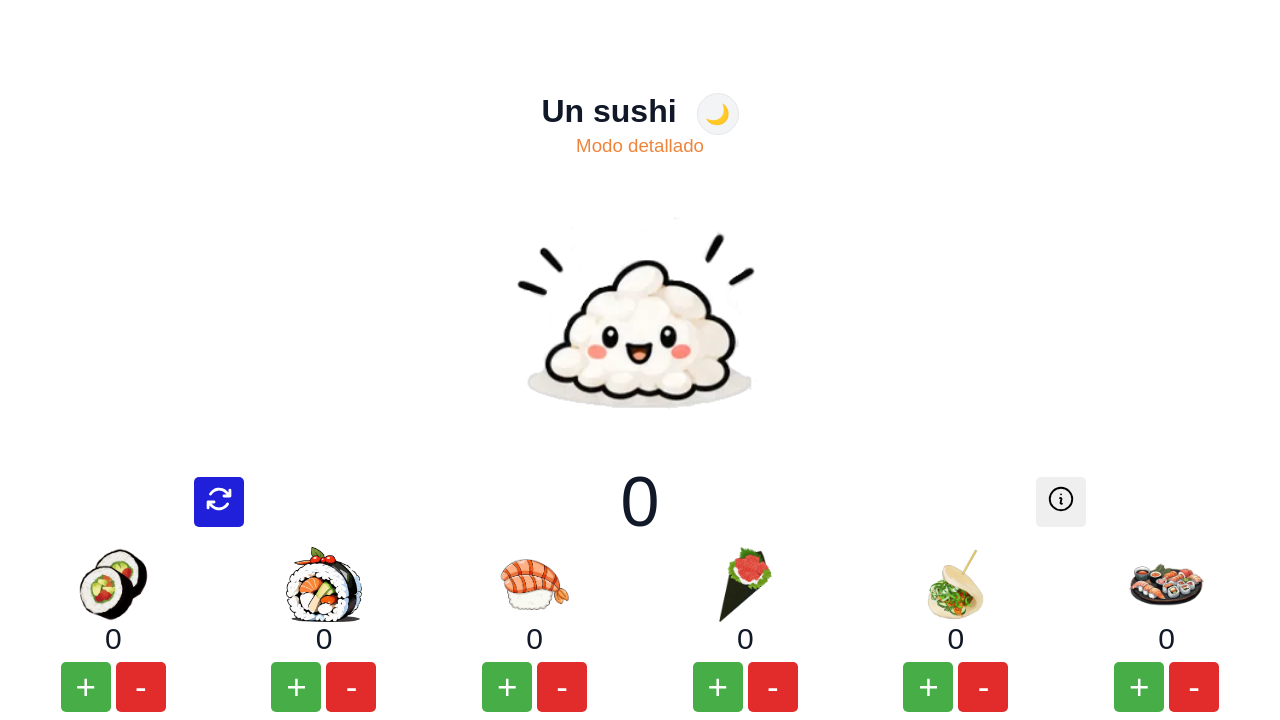
Test: SushiDetailedCounter › should aument counter and uramaki when we pulse add
(page scrolled)
Expected: the 3rd text "0" is shown, top-left (316, 622), bottom-right (332, 656)
Click the 2nd button "+". click: (296, 687)
box: top-left (272, 662), bottom-right (322, 712)
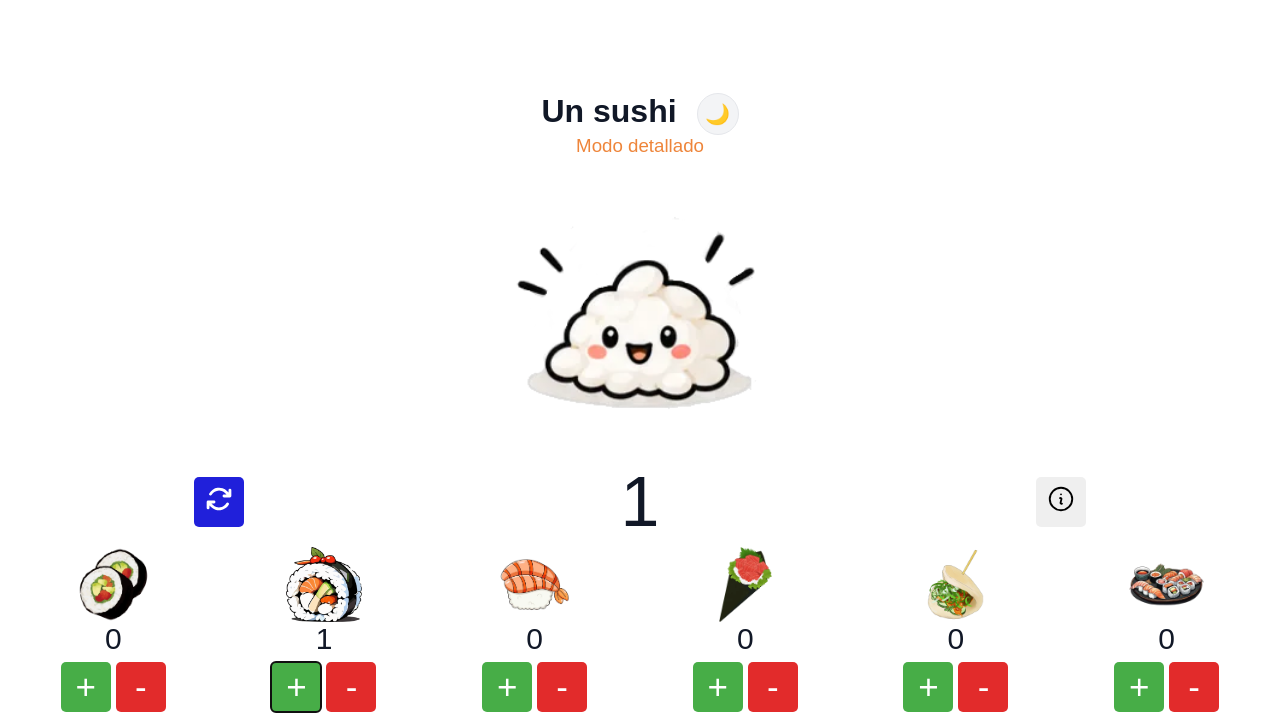
Expected: the text with id "detailed-counter" is shown, top-left (620, 462), bottom-right (659, 542)
Expected: the text with id "detailed-counter" reads "1", top-left (620, 463), bottom-right (659, 541)
Click the 2nd button "+". click: (296, 687)
box: top-left (272, 662), bottom-right (322, 712)
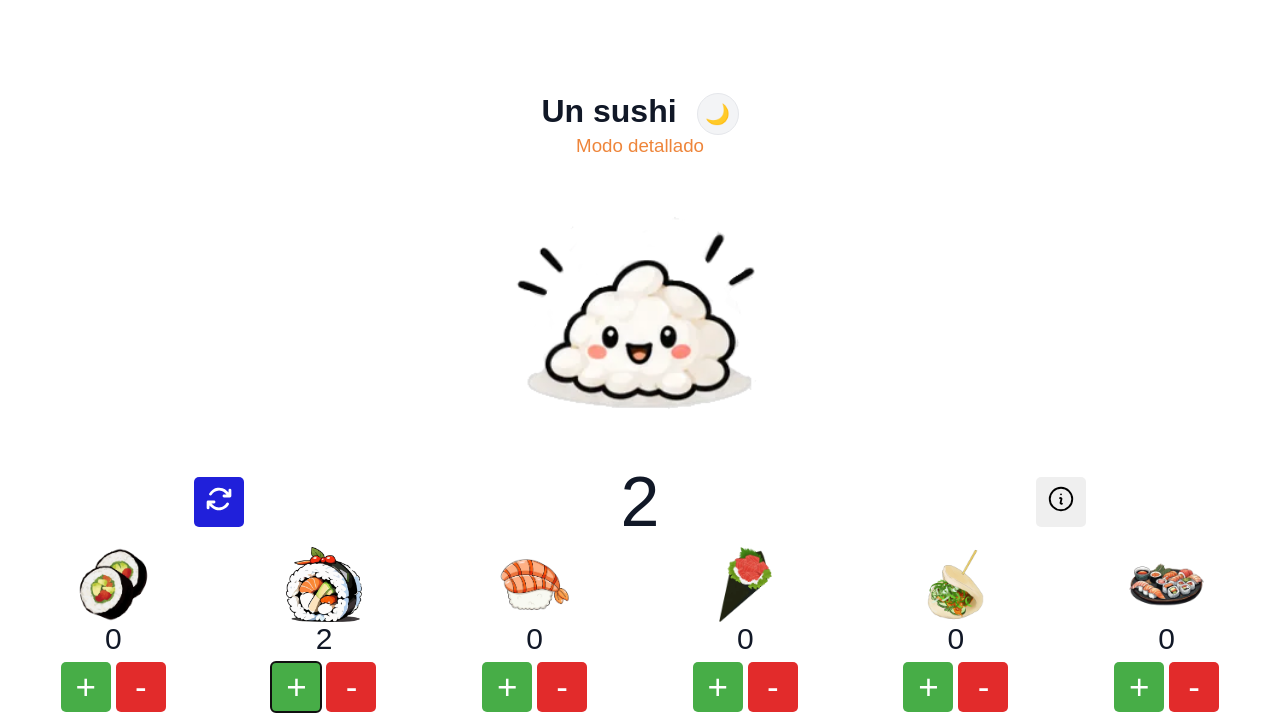
Click the 2nd button "+". click: (296, 687)
box: top-left (272, 662), bottom-right (322, 712)
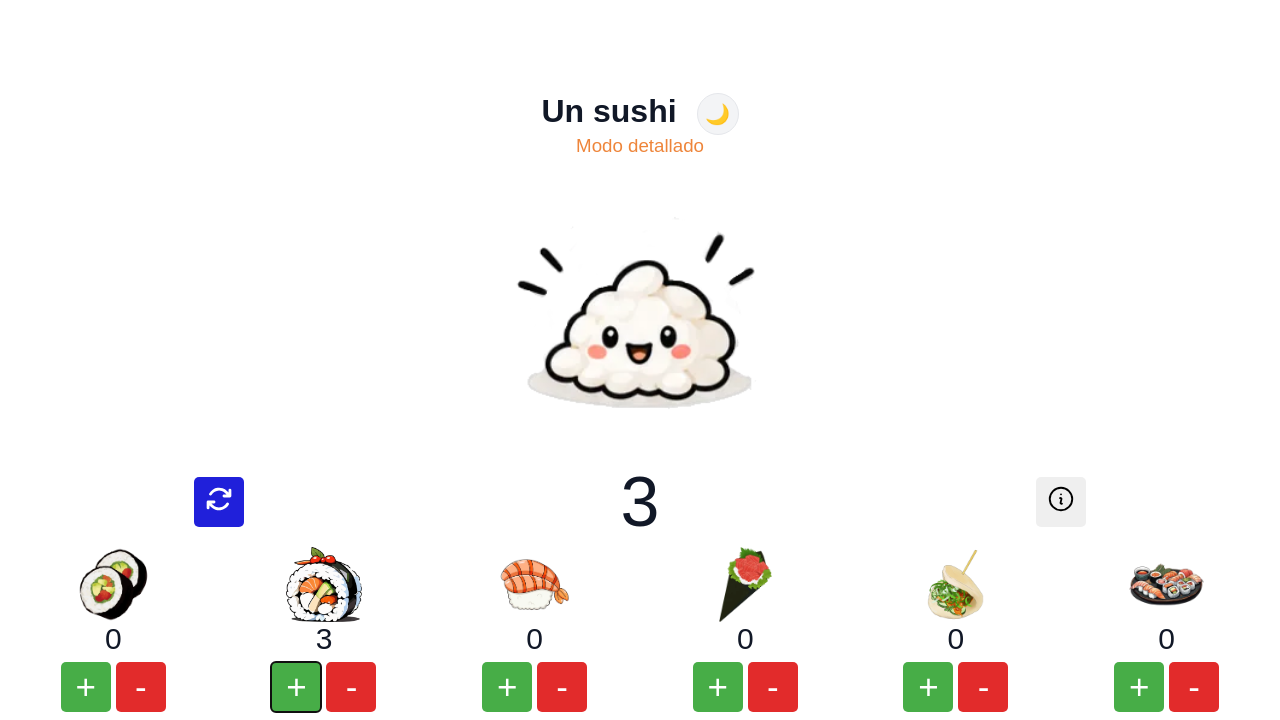
Click the 2nd button "+". click: (296, 687)
box: top-left (272, 662), bottom-right (322, 712)
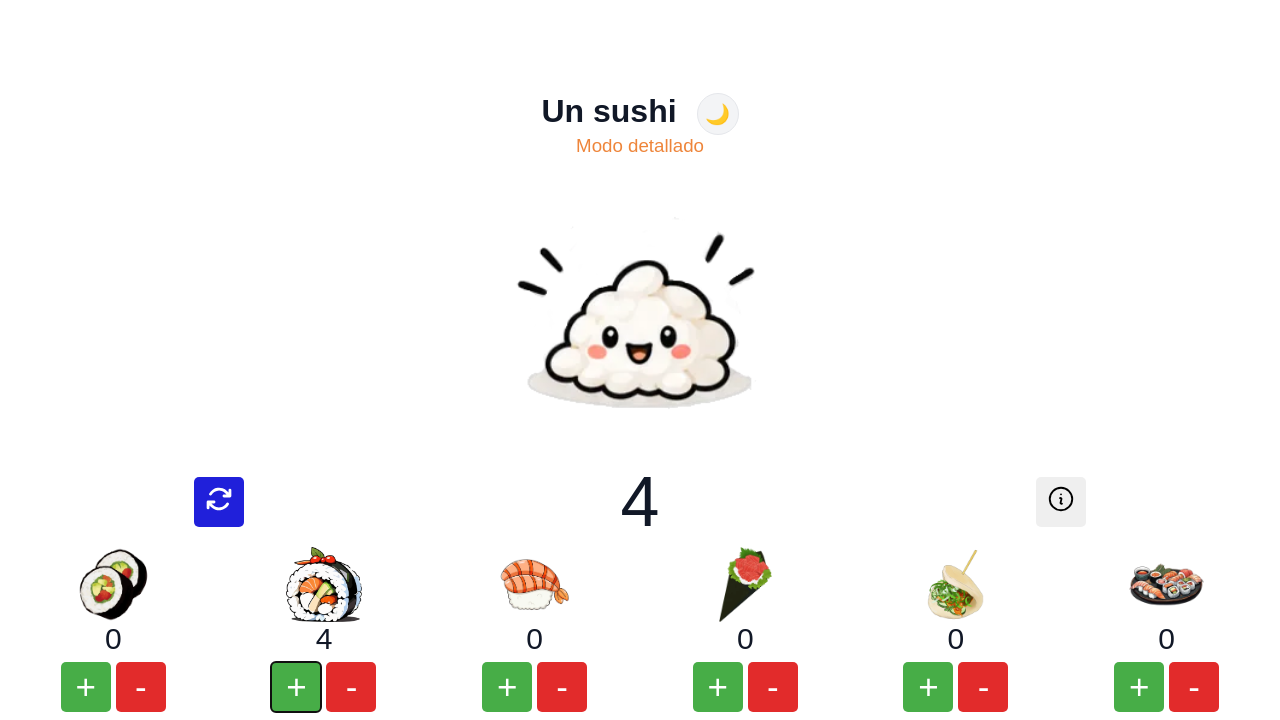
Expected: the text with id "detailed-counter" is shown, top-left (620, 462), bottom-right (659, 542)
Expected: the text with id "detailed-counter" reads "4", top-left (620, 463), bottom-right (659, 541)
